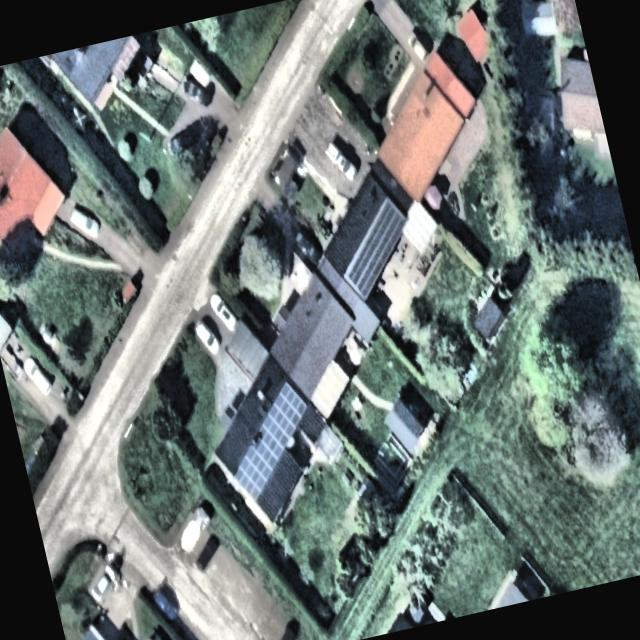roof_pv: (332, 196, 422, 304), (250, 379, 319, 473), (224, 436, 282, 508)
